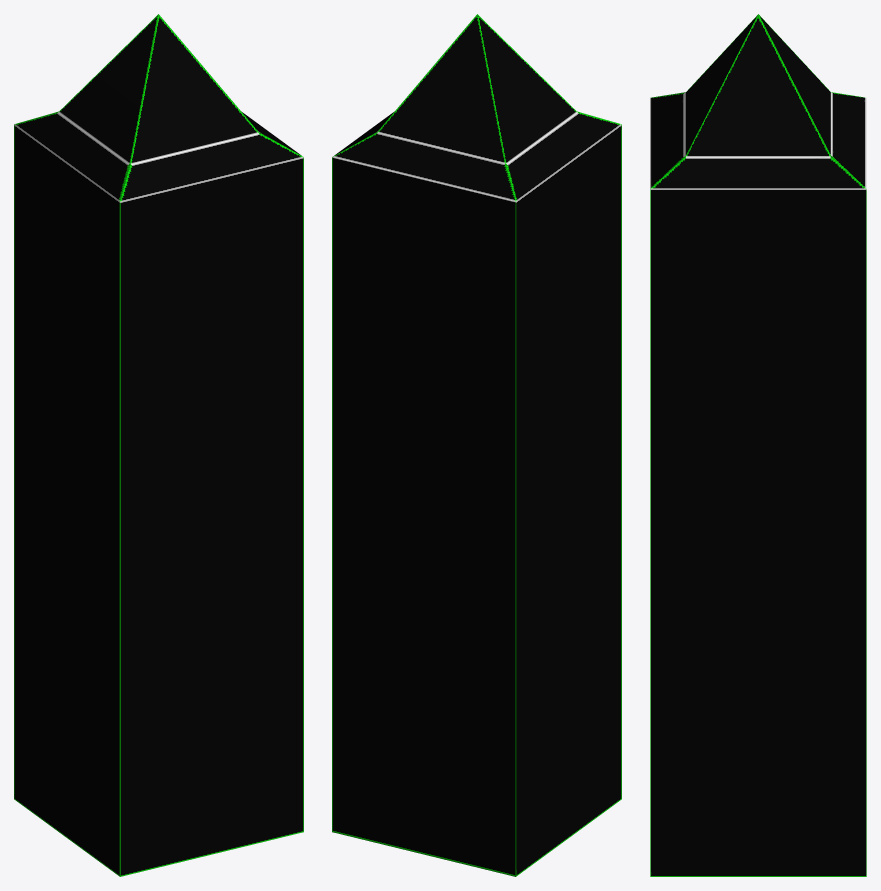
The model's file is Pointed_Tower.FBX.
3 views of the same model, side by side, from view 1: azimuth 30°, elevation 25°; view 2: azimuth 150°, elevation 25°; view 3: azimuth 270°, elevation 25° (orthographic).
Parts seen in each view (by area): view 1: Pointed_Tower; view 2: Pointed_Tower; view 3: Pointed_Tower.
Part boxes in pixels (x1,y1,x2,y2): Pointed_Tower: [14, 14, 303, 876]; Pointed_Tower: [332, 14, 621, 876]; Pointed_Tower: [650, 14, 866, 876].
Size of what is drawn, in the model's own units: 0.3937 by 1.64 by 0.3937.
1 material, 1 textured.
